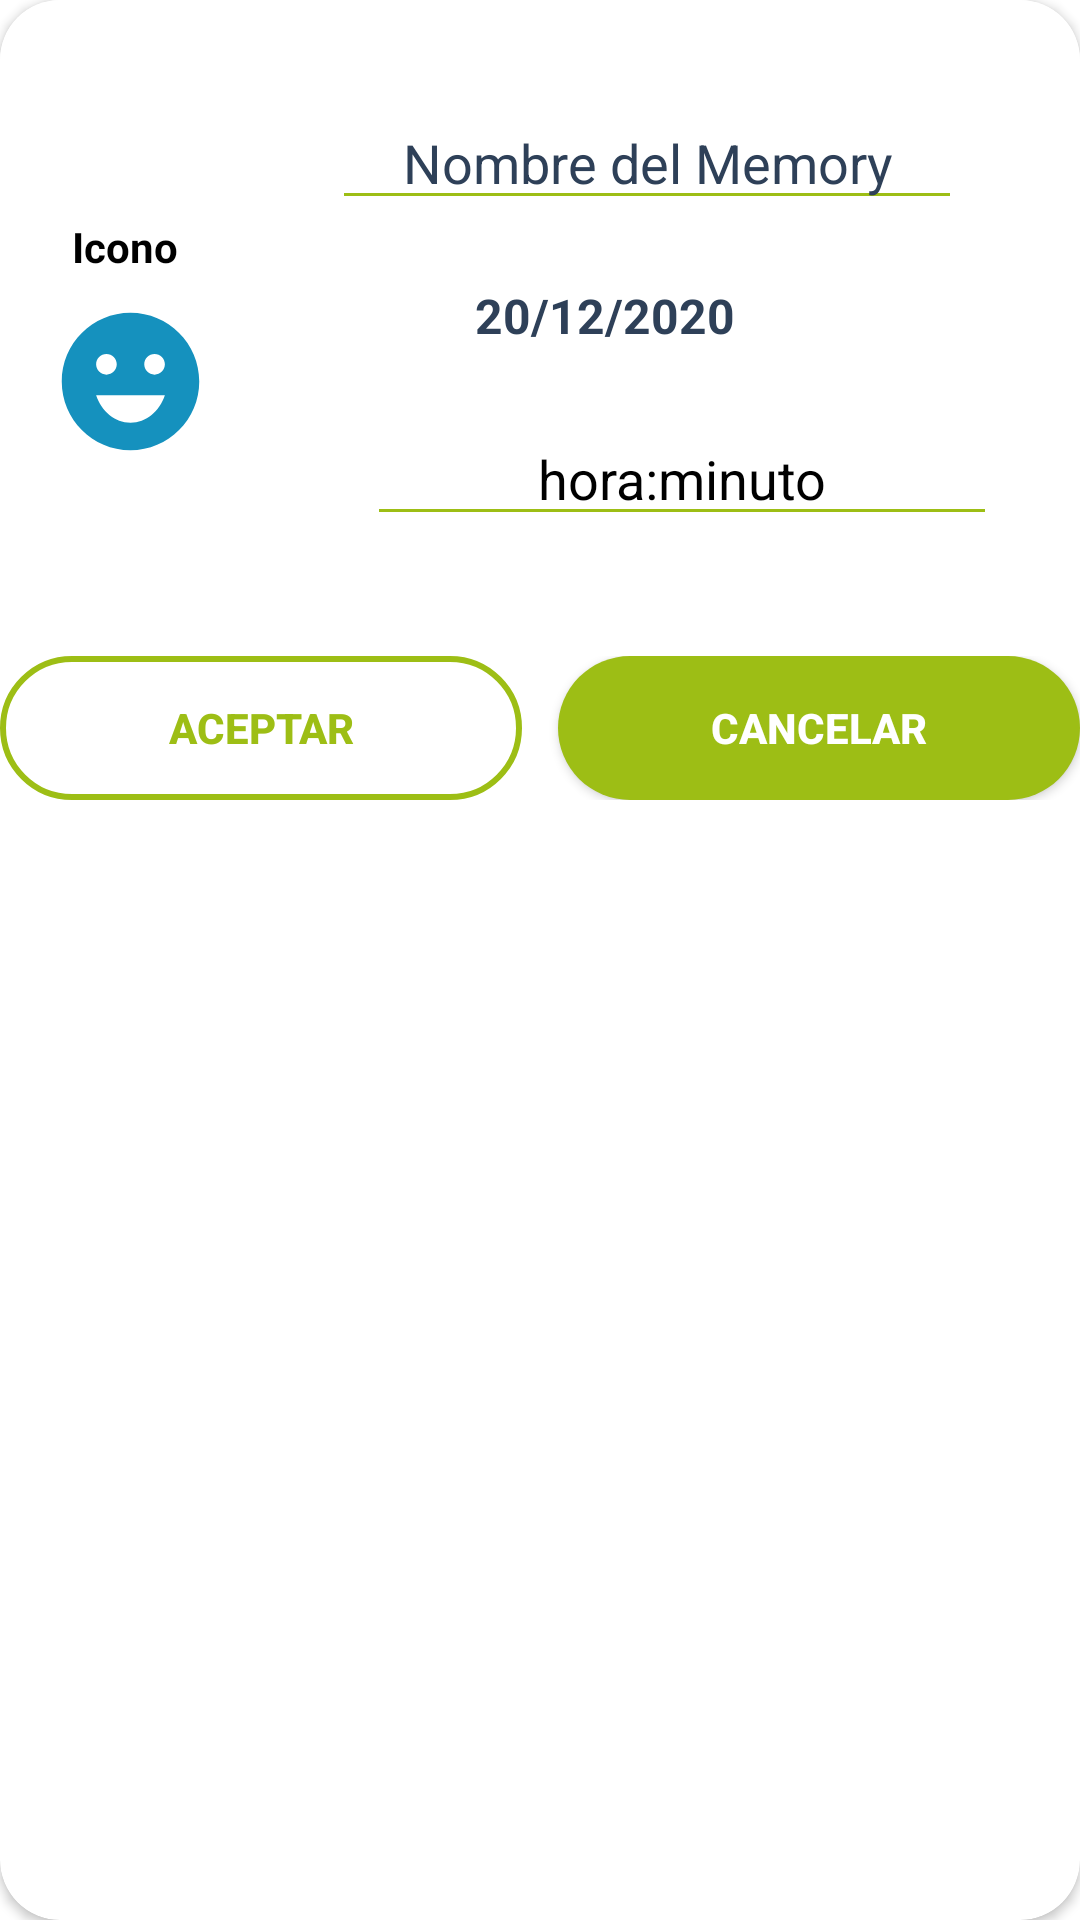

Point at icon controls on the screen. Image size 1080 x 1920, points as (x=x, y=y).
emoji emotions: (x=130, y=381)
